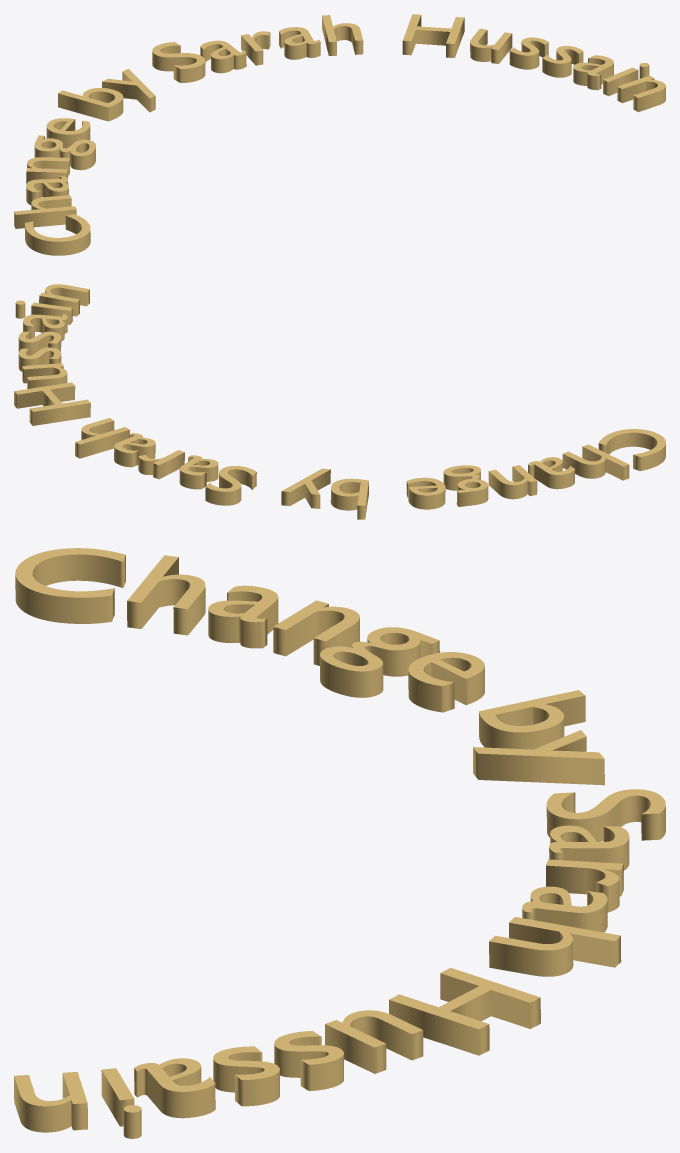
3 renders of one model, top to bottom at view 1: azimuth 30°, elevation 25°; view 2: azimuth 150°, elevation 25°; view 3: azimuth 270°, elevation 25°, orthographic. The views are drawn at different scales.
Parts seen in each view (by area): view 1: Mark2_Change; view 2: Mark2_Change; view 3: Mark2_Change.
Boxes of the visible parts, x1,y1,x2,y2 form: Mark2_Change: (14, 14, 665, 255); Mark2_Change: (14, 284, 665, 519); Mark2_Change: (14, 548, 665, 1138).
Bounding box in the file's own units: 3.76 × 0.1126 × 1.8.
